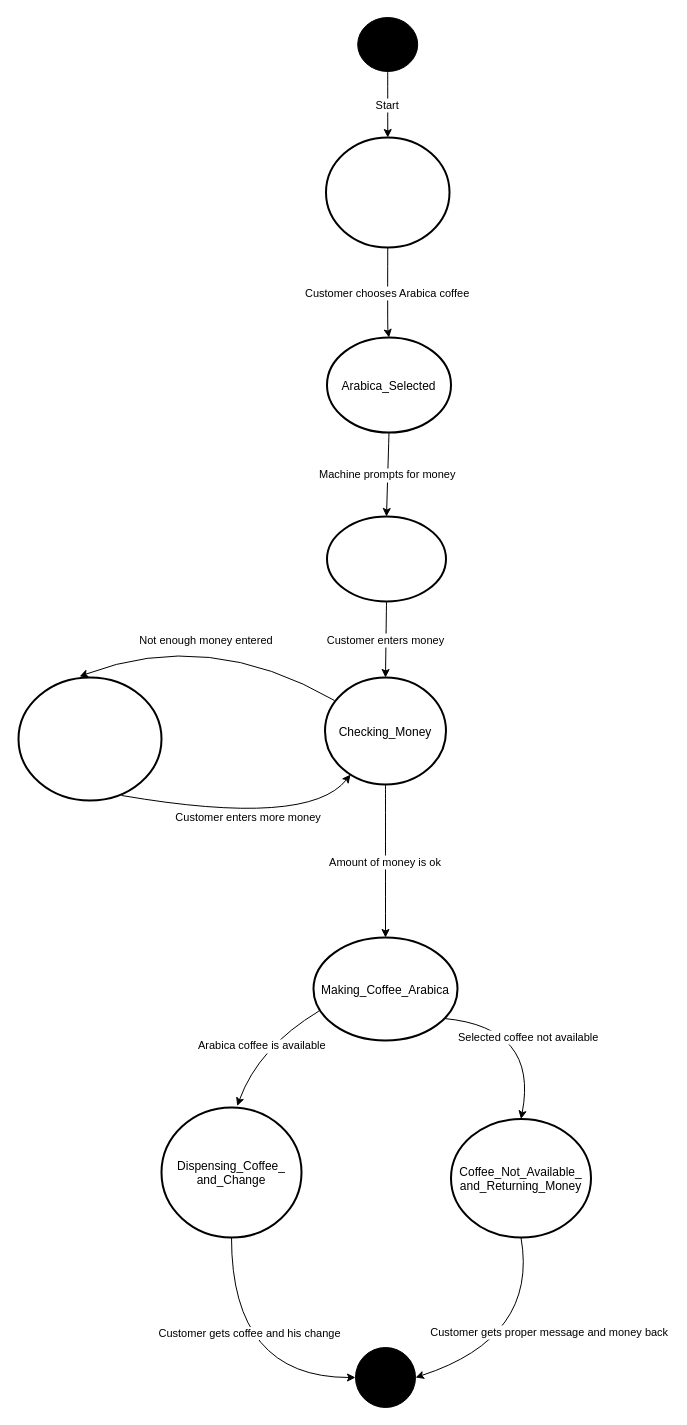
Image size: 687x1425. Some labels were removed from this diagram. Here are the shapes that lost their labels. From the top down, the box of each, then its label:
(324, 136, 450, 248): Waiting_for_Selection
(326, 515, 446, 602): Waiting_for_Money
(17, 676, 162, 801): Asking_for_More_Money
